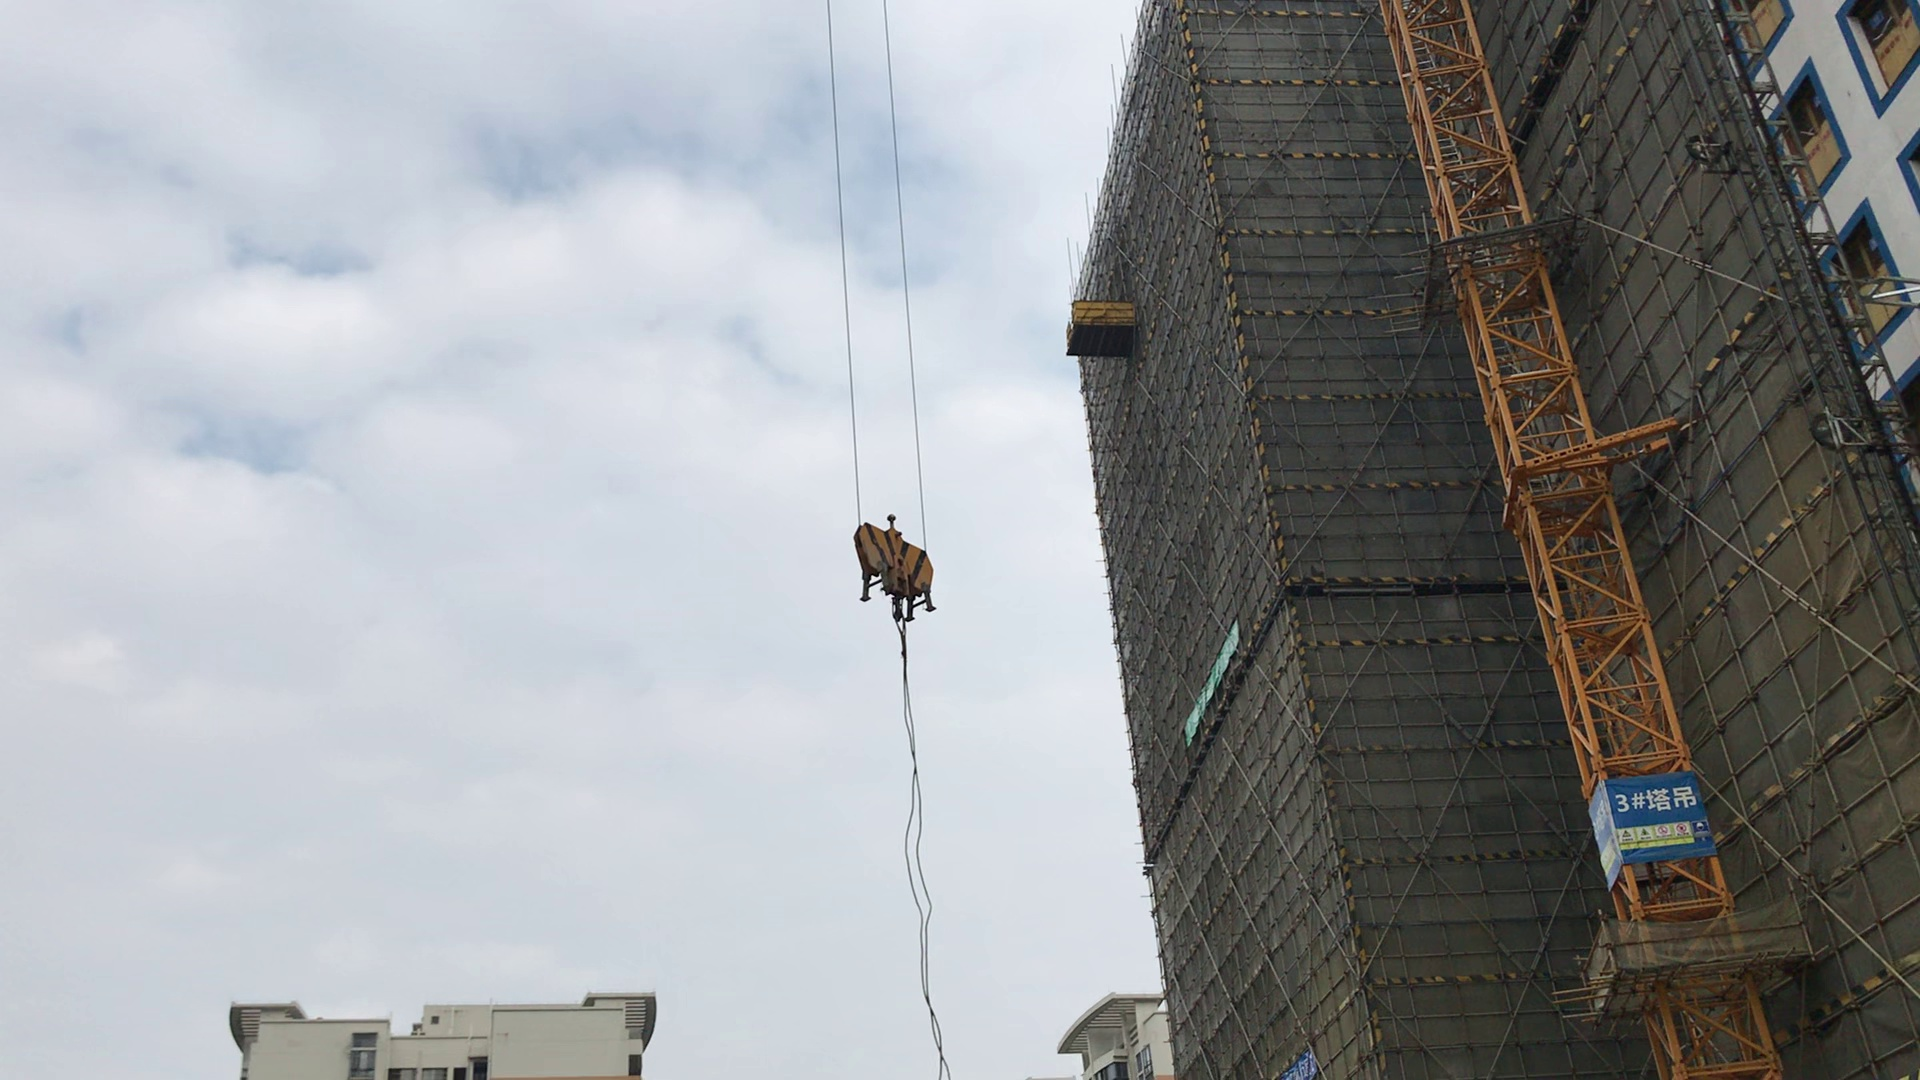hook: (858, 512, 952, 613)
slogan: (1185, 626, 1246, 749)
